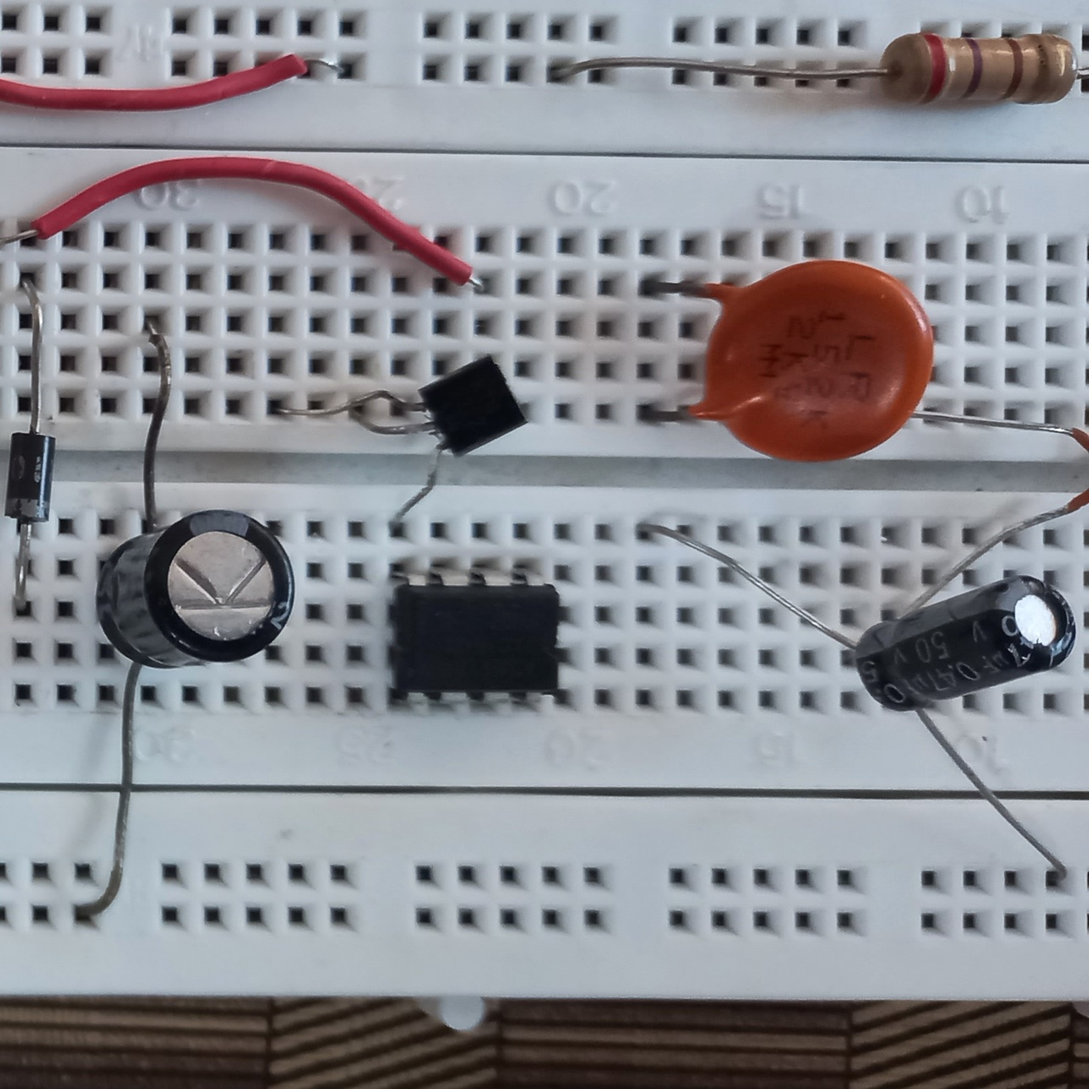capacitor: (657, 253, 947, 470), (841, 567, 1077, 736), (96, 509, 298, 674)
resistor: (871, 27, 1084, 113)
